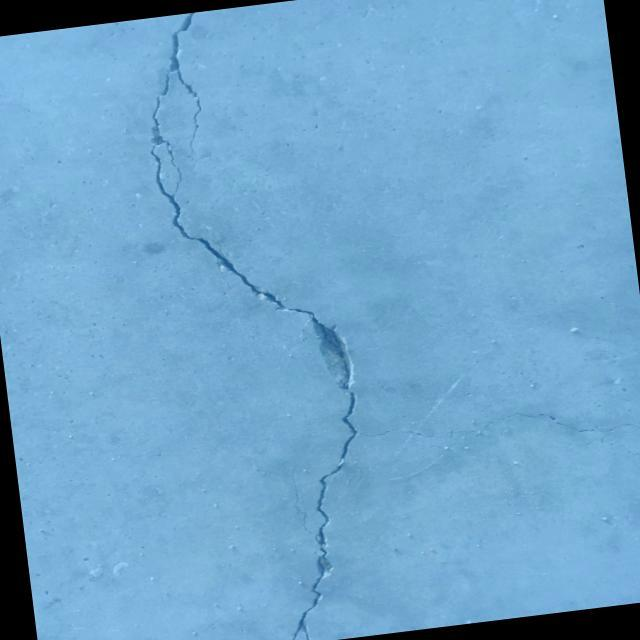crack: (134, 0, 428, 640), (403, 396, 640, 462)
